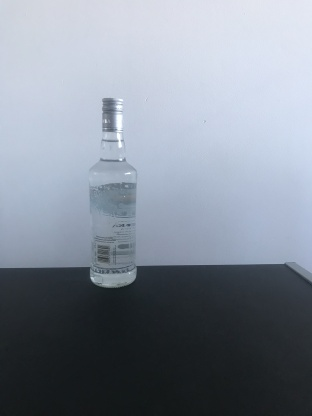nakretka: (99, 95, 125, 133)
